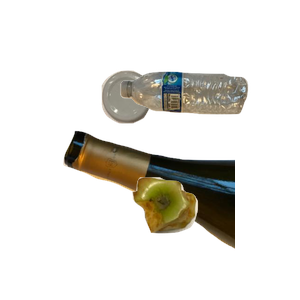glass: (60, 128, 300, 300)
metal: (99, 68, 244, 184)
plastic: (118, 69, 300, 176)
trash: (130, 175, 300, 300)
